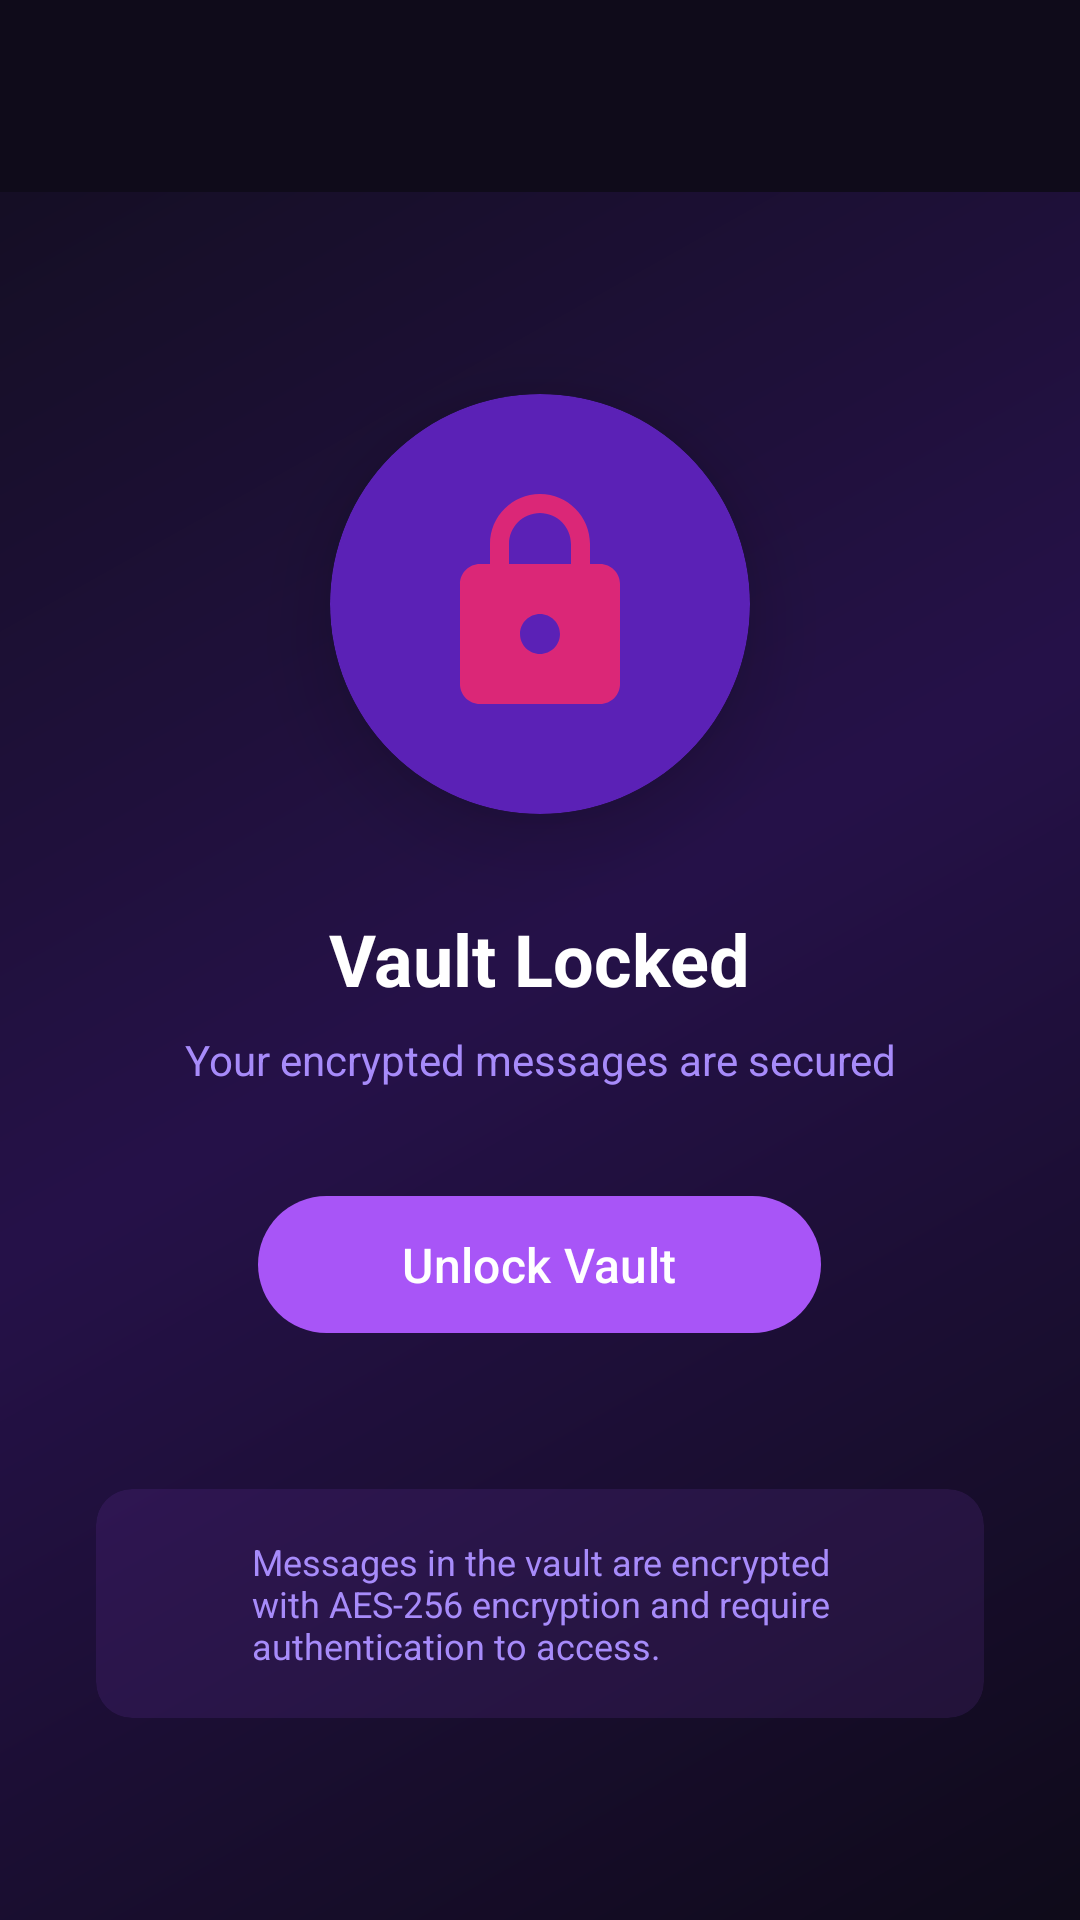

Icons on this 1080w x 1920h Android screen, each with the point to tap as point (x, y):
vault: point (540, 599)
